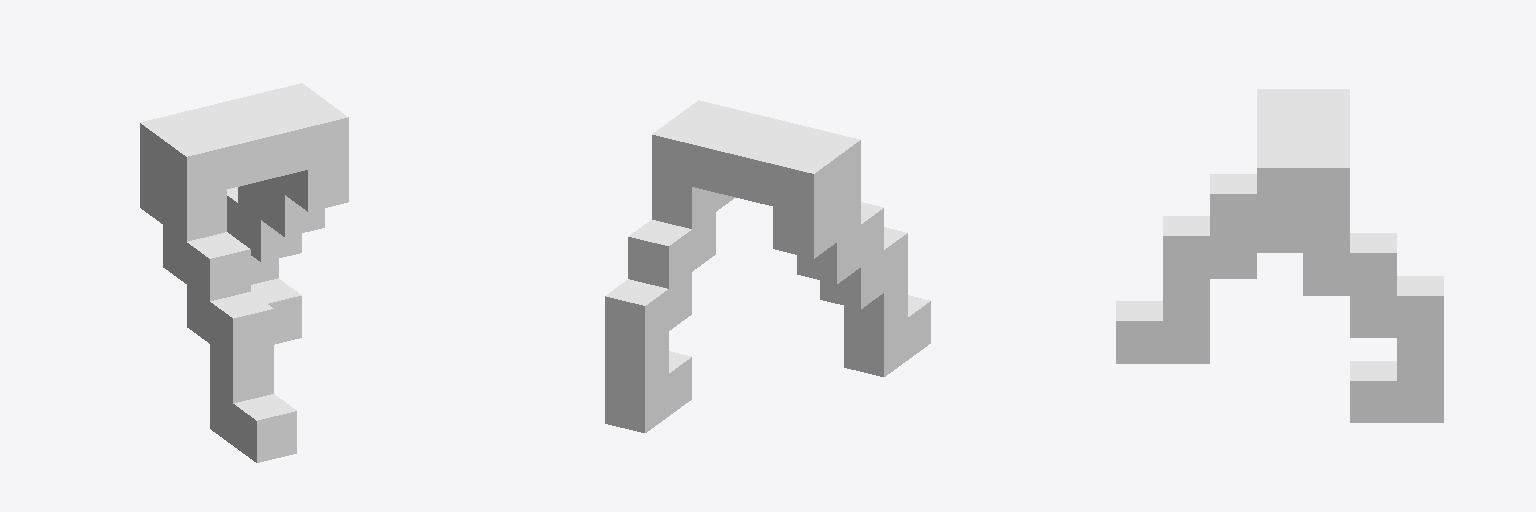
The model's file is legs_walk_1_002.obj.
3 views of the same model, side by side, from view 1: azimuth 30°, elevation 25°; view 2: azimuth 150°, elevation 25°; view 3: azimuth 270°, elevation 25° (orthographic).
Bounding box in the file's own units: 4 × 6 × 7.